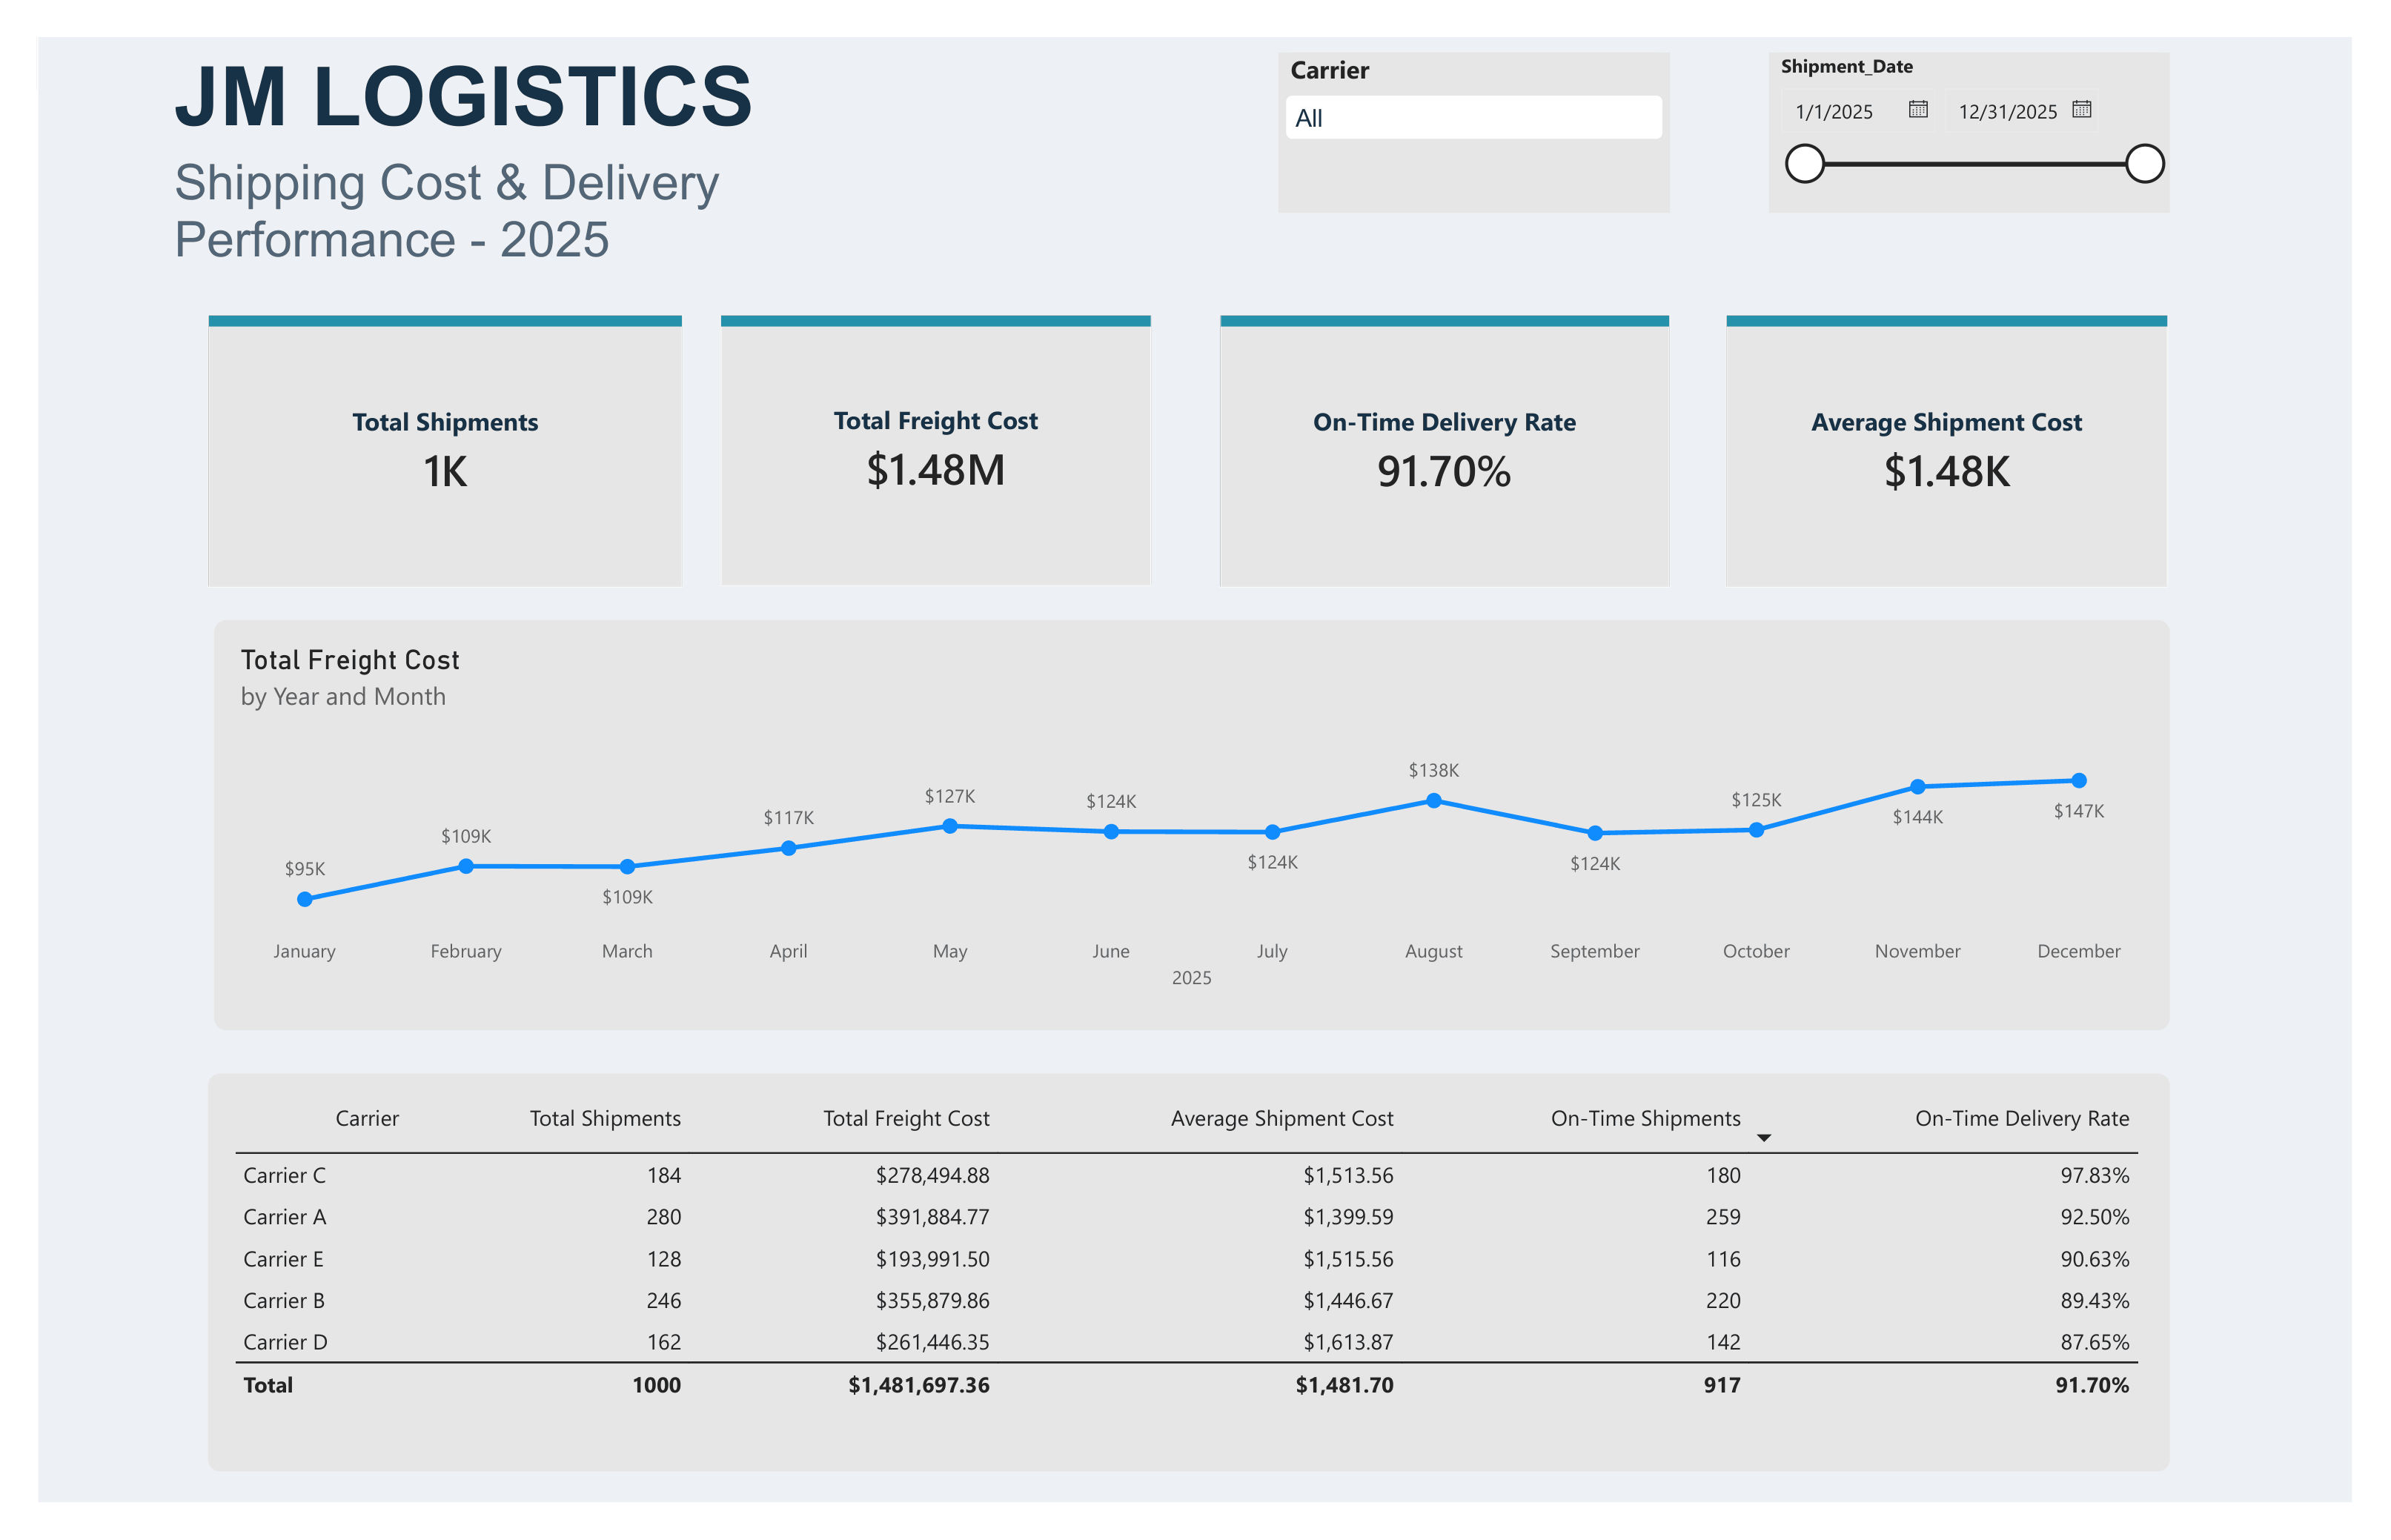

Layout of this report page (visuals, bound fields, positions):
{"tool":"powerbi","page":{"name":"Page 1","canvas":[1500,950],"ordinal":0},"visuals":[{"type":"tableEx","fields":{"Values":["Shipments.Carrier","Shipments.Total Shipments","Shipments.Total Freight Cost","Shipments.Average Shipment Cost","Shipments.On-Time Shipments","Shipments.On-Time Delivery Rate"]},"box":[110,672,1272,258],"z":0},{"type":"cardVisual","fields":{"Data":["Shipments.Total Shipments"]},"box":[110,180,307.8,176.8],"z":1000},{"type":"cardVisual","fields":{"Data":["Shipments.Average Shipment Cost"]},"box":[1094,180,287.1,176.8],"z":2000},{"type":"cardVisual","fields":{"Data":["Shipments.On-Time Delivery Rate"]},"box":[766,180,291.7,176.8],"z":3000},{"type":"cardVisual","fields":{"Data":["Shipments.Total Freight Cost"]},"box":[442,180,280,176],"z":4000},{"type":"lineChart","fields":{"Category":["Shipments.Shipment_Date.Variation.Date Hierarchy.Year","Shipments.Shipment_Date.Variation.Date Hierarchy.Month"],"Y":["Shipments.Total Freight Cost"]},"box":[114,378,1268,266],"z":5000},{"type":"slicer","fields":{"Values":["Shipments.Carrier"]},"box":[804,10,254,104],"z":6000},{"type":"slicer","fields":{"Values":["Shipments.Shipment_Date"]},"box":[1122,10,260,104],"z":7000},{"type":"textbox","box":[88,8,540,68],"z":8000},{"type":"textbox","box":[88,76,480,76],"z":9000}]}

Visuals, with their boxes on the page's 1500x950 design canvas (x1, y1, x2, y2). These are canvas units, not pixel positions in the 2391x1540 screenshot, which may show the page scaled, cropped or inside an application window:
tableEx - Shipments.Carrier x Shipments.Total Shipments: detection(110, 672, 1382, 930)
cardVisual - Shipments.Total Shipments: detection(110, 180, 418, 357)
cardVisual - Shipments.Average Shipment Cost: detection(1094, 180, 1381, 357)
cardVisual - Shipments.On-Time Delivery Rate: detection(766, 180, 1058, 357)
cardVisual - Shipments.Total Freight Cost: detection(442, 180, 722, 356)
lineChart - Shipments.Shipment_Date.Variation.Date Hierarchy.Year x Shipments.Shipment_Date.Variation.Date Hierarchy.Month: detection(114, 378, 1382, 644)
slicer - Shipments.Carrier: detection(804, 10, 1058, 114)
slicer - Shipments.Shipment_Date: detection(1122, 10, 1382, 114)
textbox: detection(88, 8, 628, 76)
textbox: detection(88, 76, 568, 152)
